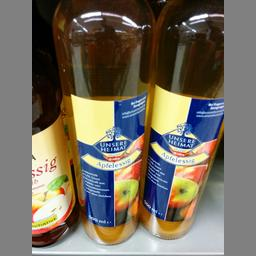vinegar: (52, 0, 148, 243), (140, 0, 222, 239)
